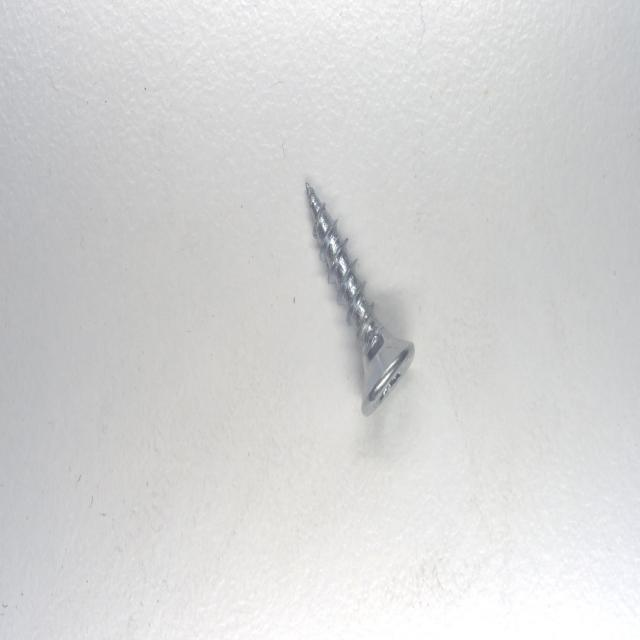Screw: (306, 182, 415, 415)
